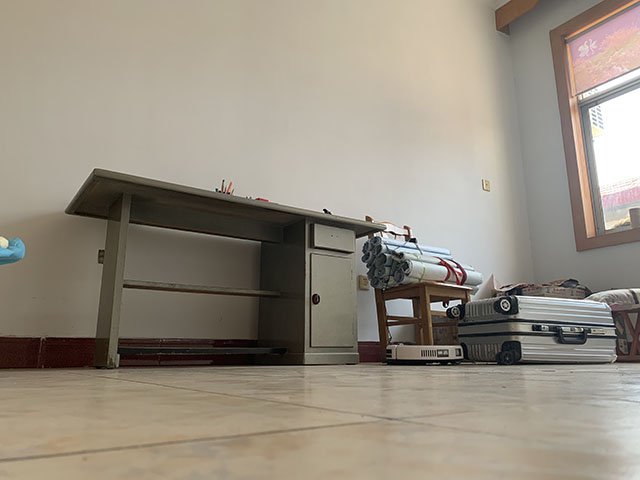stool: (364, 216, 472, 363)
table: (64, 167, 388, 371)
